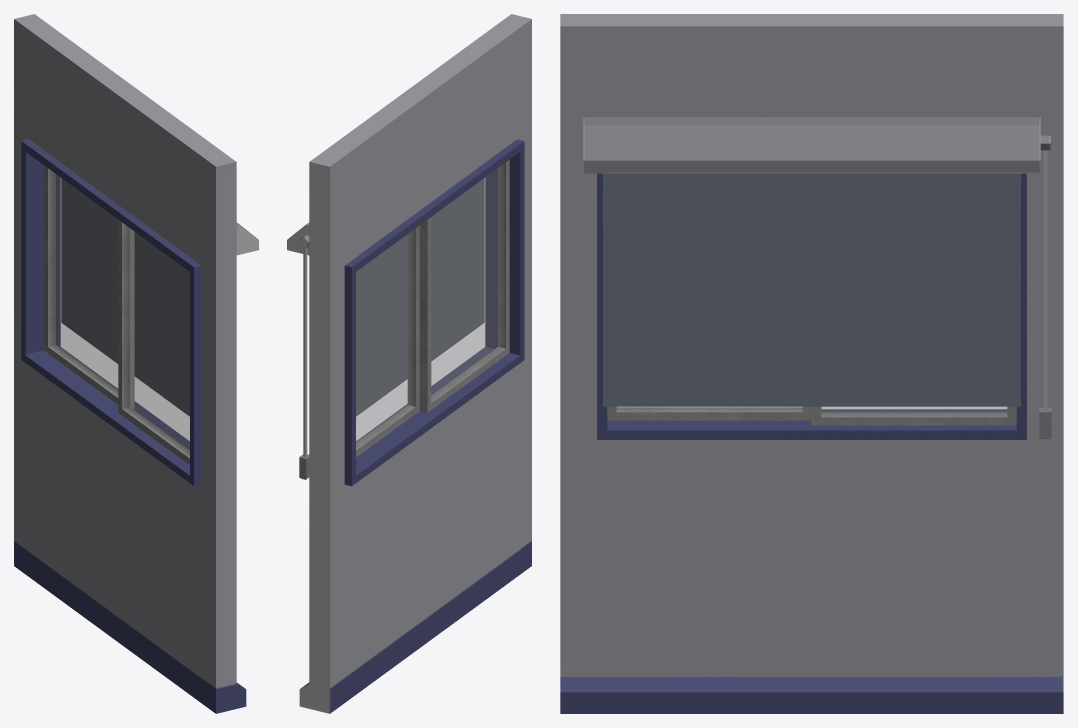
The model's file is windowwall.glb.
The picture shows the model from 3 angles, left to right: view 1: azimuth 30°, elevation 25°; view 2: azimuth 150°, elevation 25°; view 3: azimuth 270°, elevation 25°; orthographic projection. The views are drawn at different scales.
Parts seen in each view (by area): view 1: WindowWall-material; view 2: WindowWall-material; view 3: WindowWall-material.
Boxes of the visible parts, x1,y1,x2,y2 form: WindowWall-material: [14, 14, 258, 713]; WindowWall-material: [287, 14, 531, 713]; WindowWall-material: [560, 14, 1063, 713].
Bounding box in the file's own units: 0.0553 × 0.4864 × 0.3256.
Materials: 1 (1 with a texture image).
